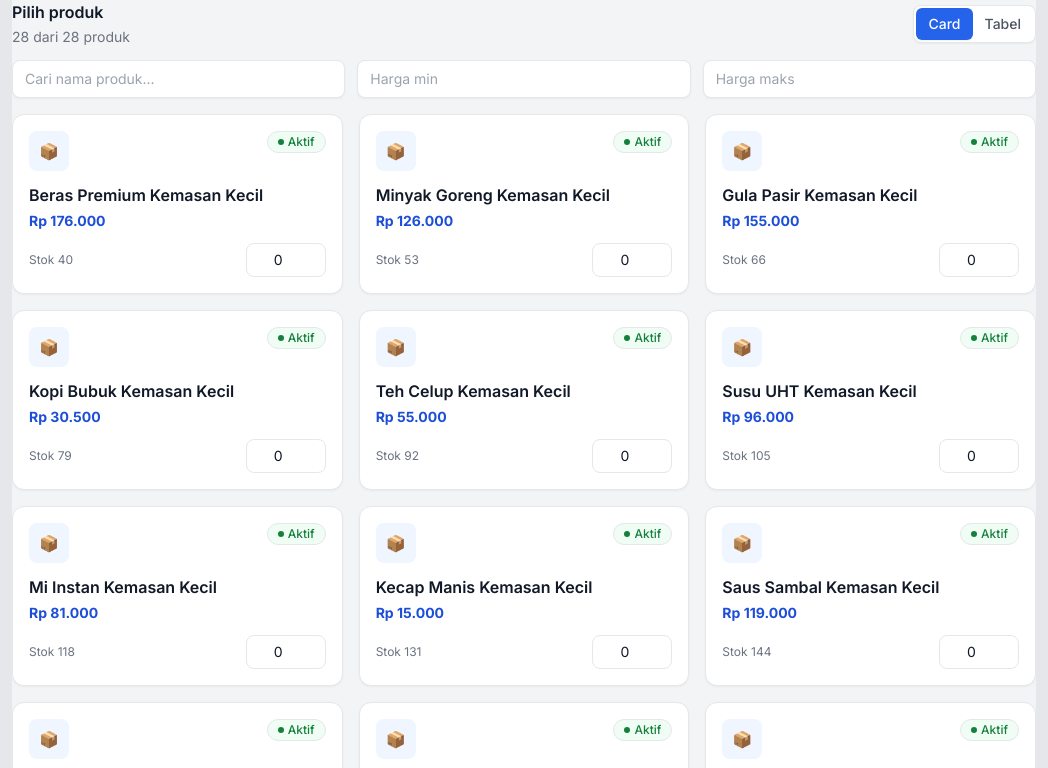
OrderForm — cache invalidation on outlet order submission › dummy mode submit does not break (no throw, no queue)
Replace the text in the number field named "Jumlah " with "1" at coordinates (286, 260), box [246,243,326,277]
(page scrolled)
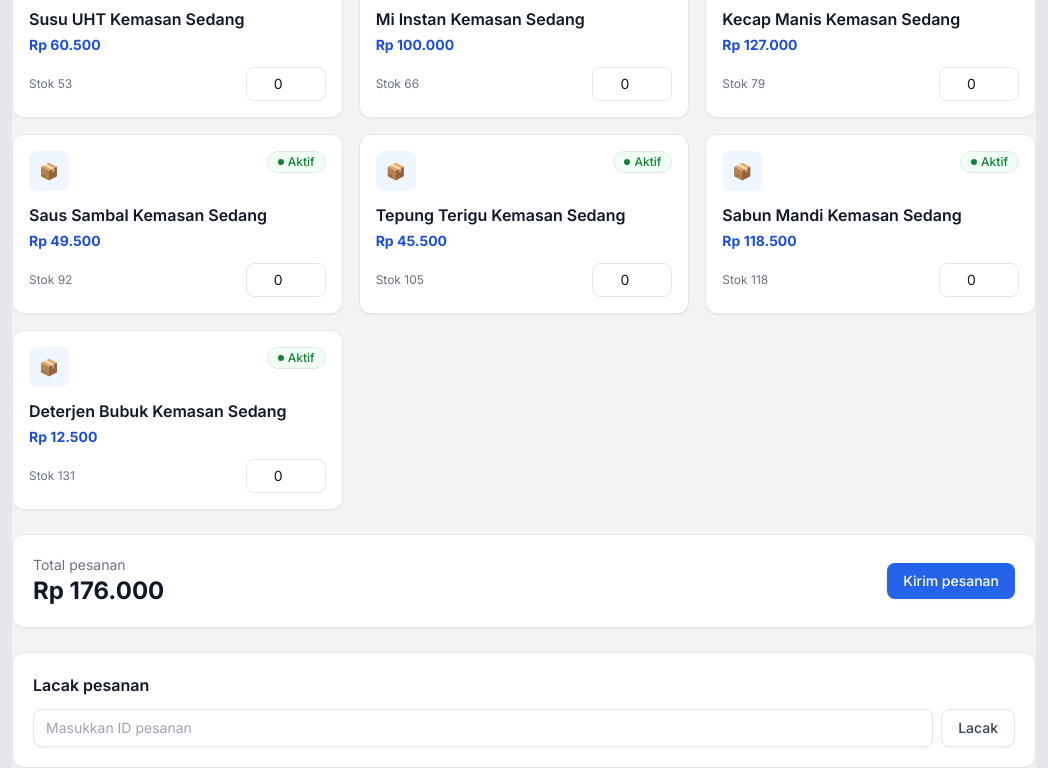
Click the button "Kirim pesanan".
click(951, 581)  # box [887,563,1015,599]
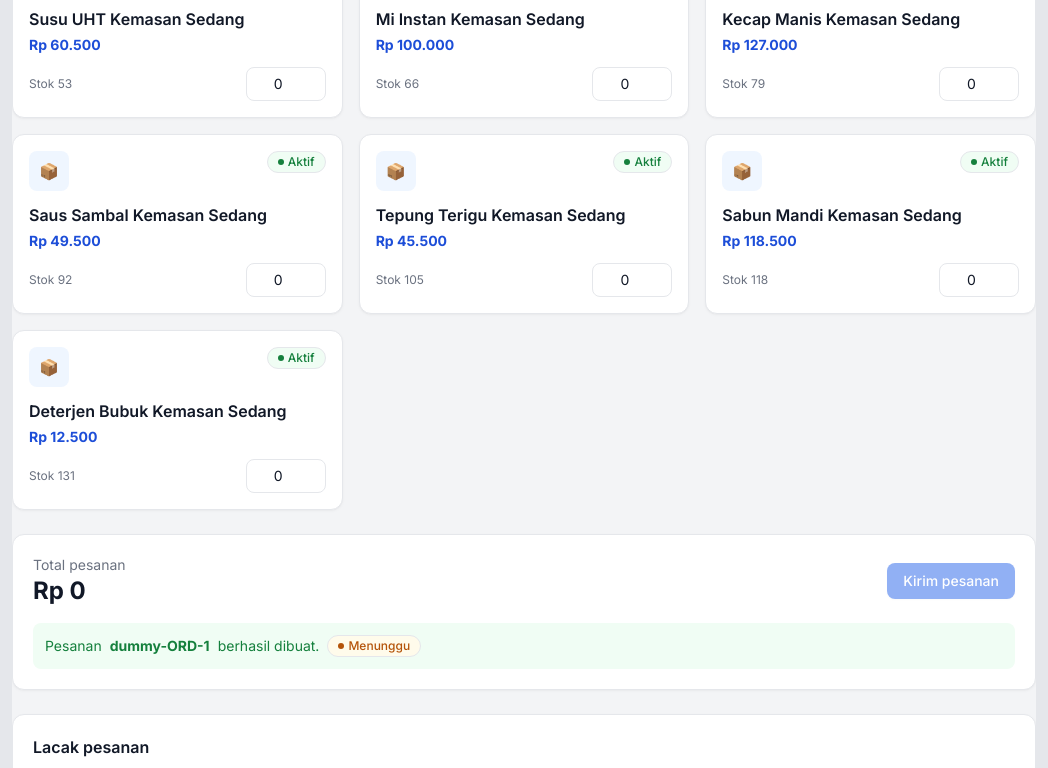
Expected: the text "Pesanan dummy-ORD-1 berhasil dibuat. Menunggu" is shown, [33,623,1015,669]
